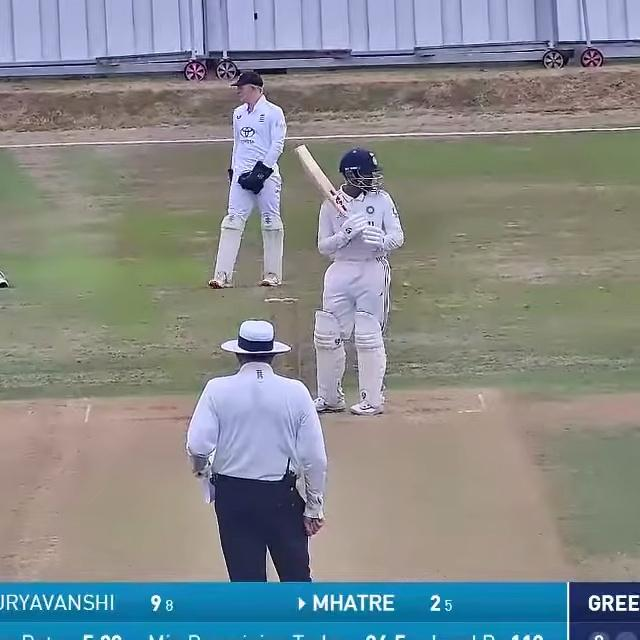umpire: (176, 309, 336, 584)
